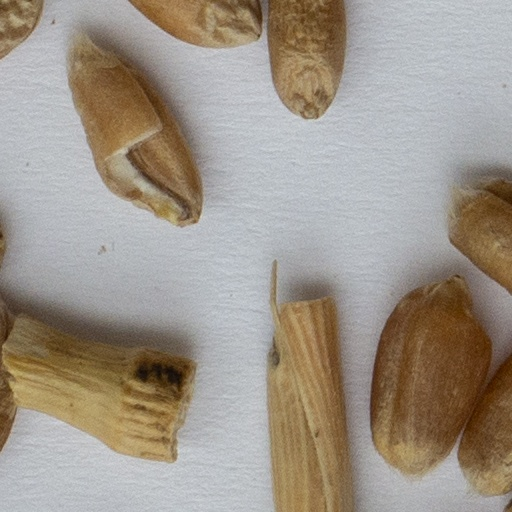Peel-poly: (3, 317, 192, 461), (268, 260, 352, 511)
